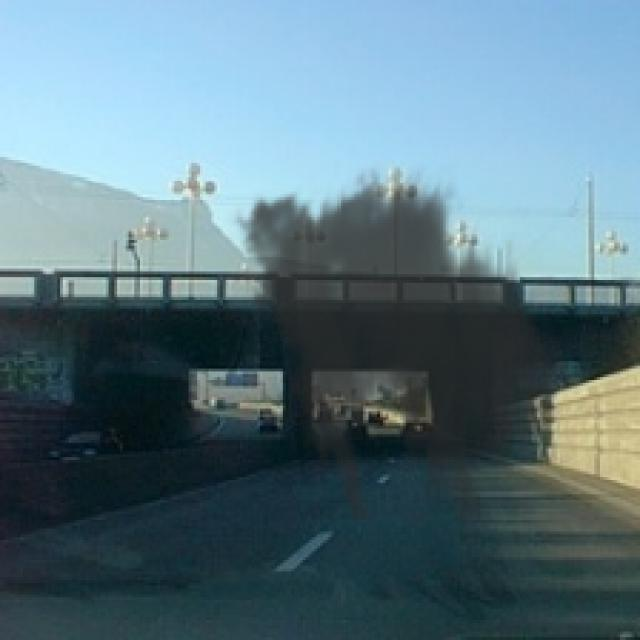smoke: (226, 163, 577, 520)
